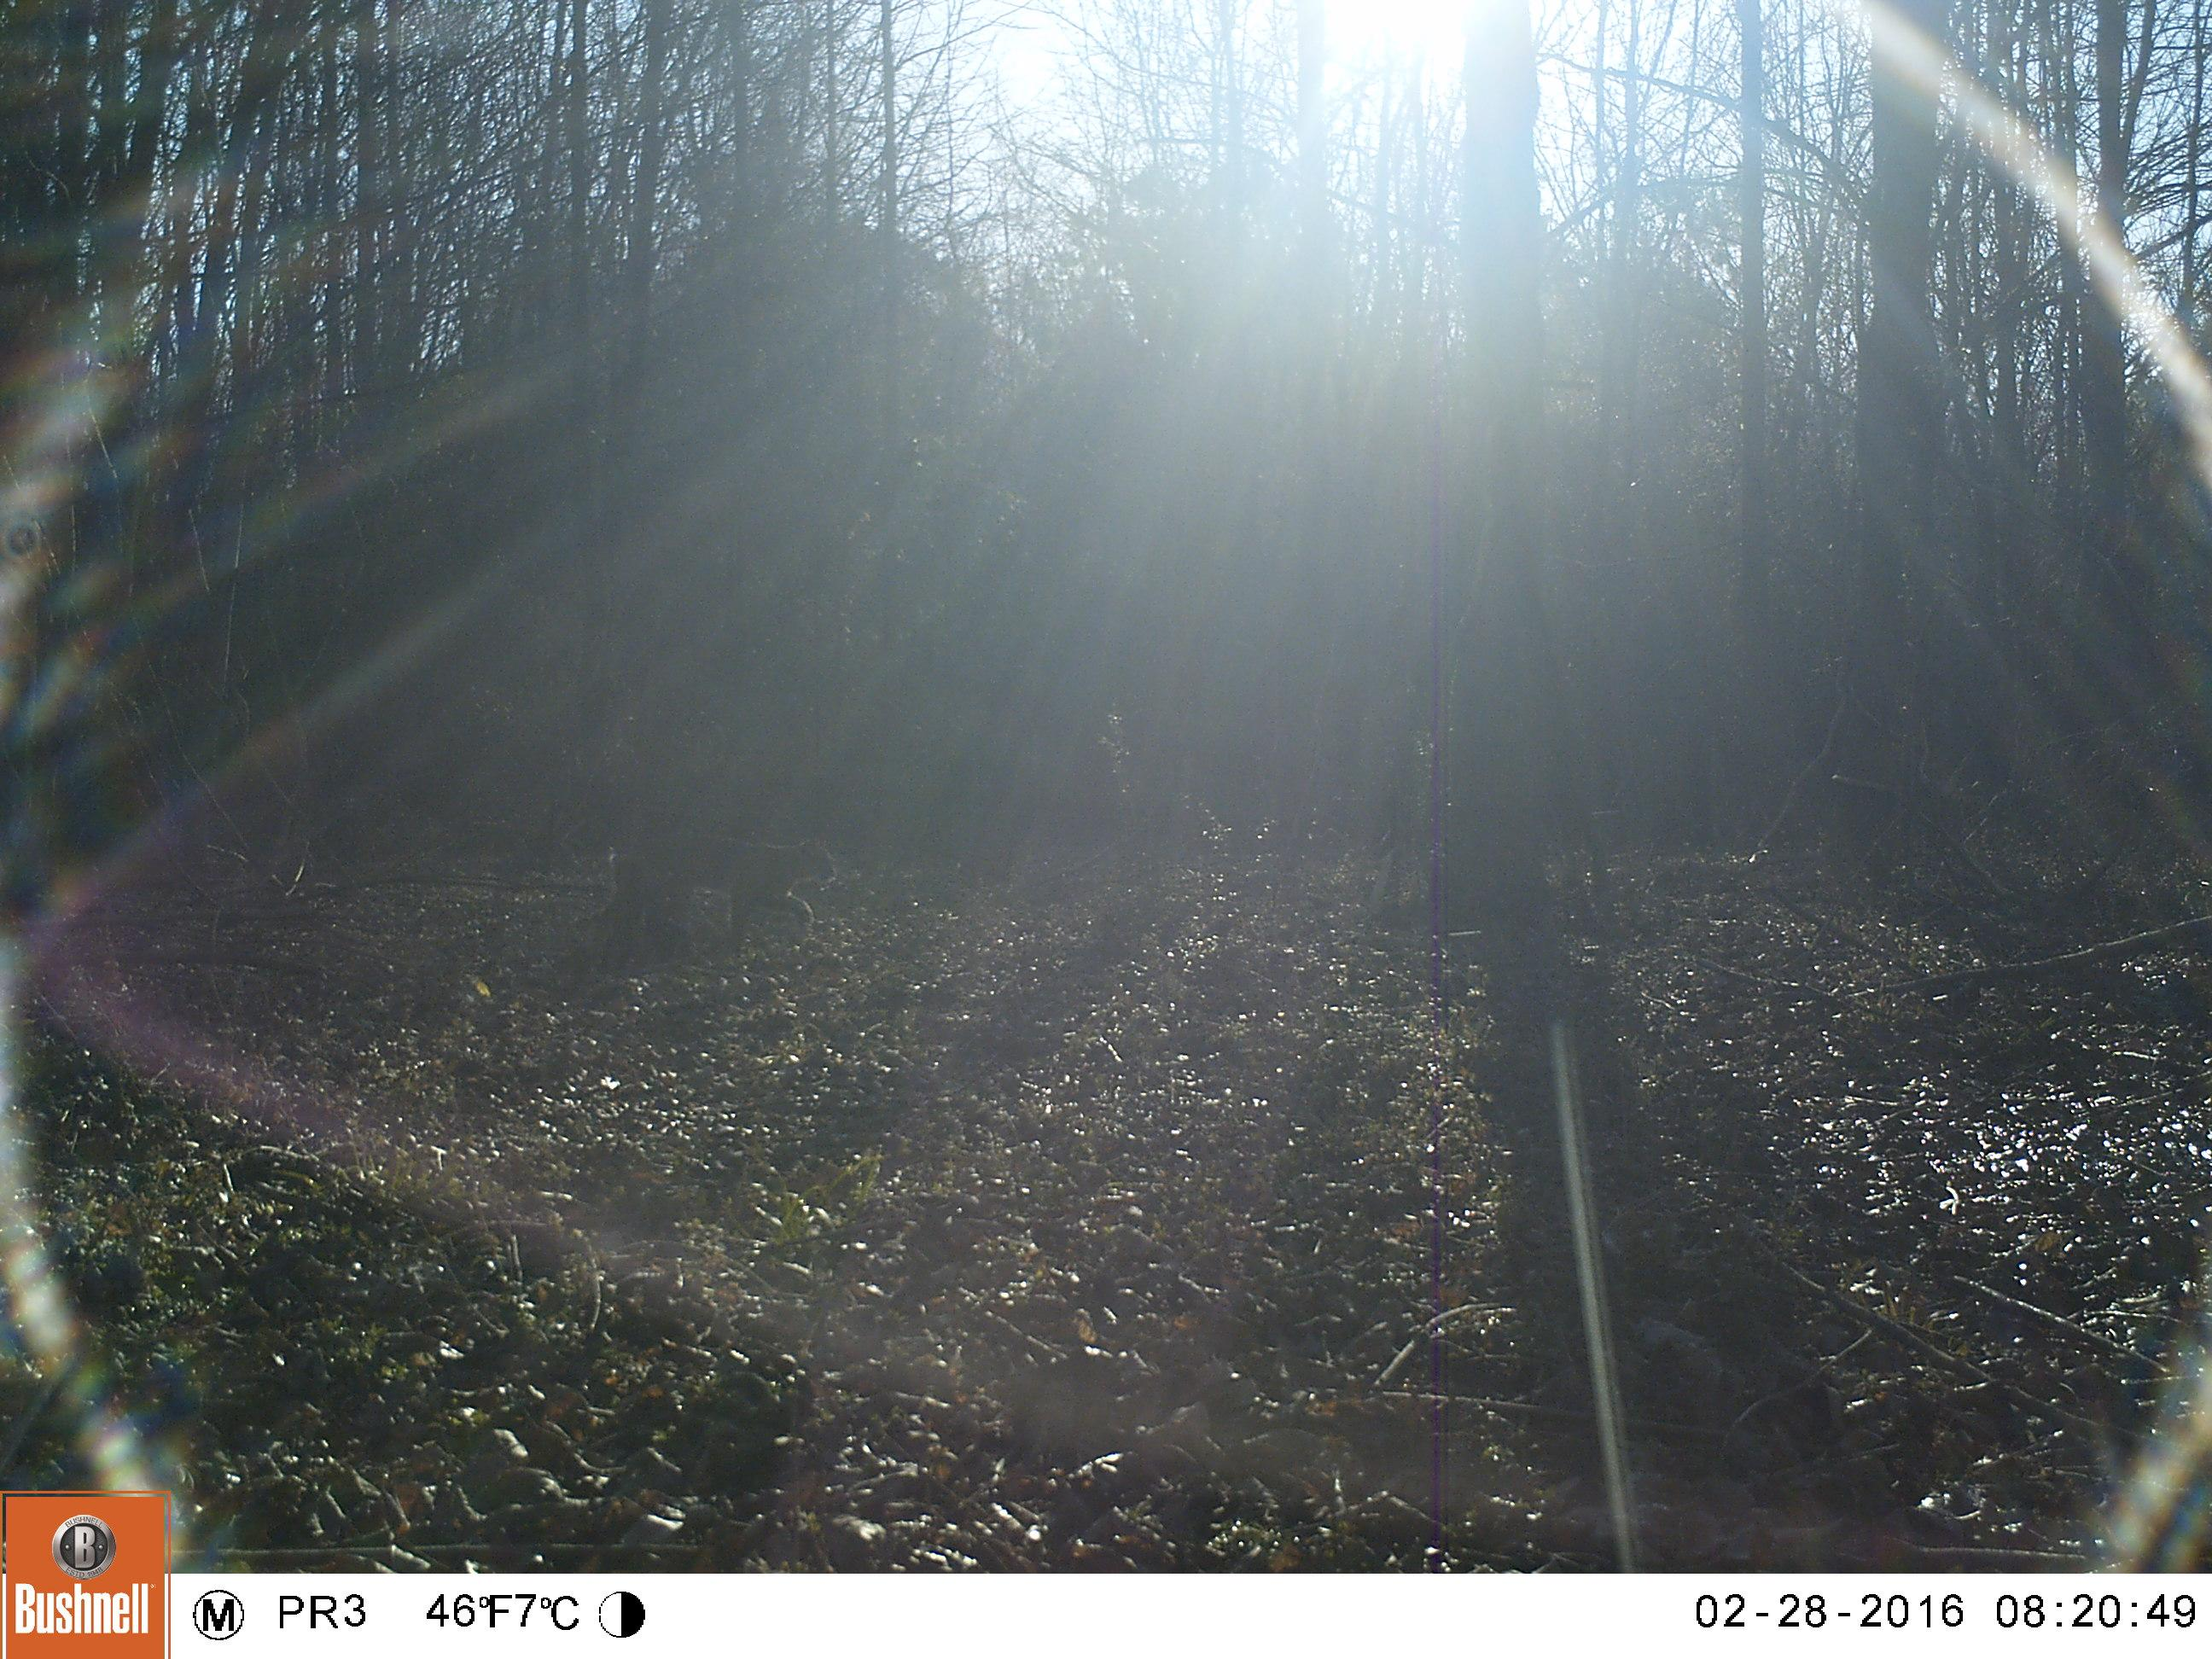Animal: (587, 835, 840, 955)
